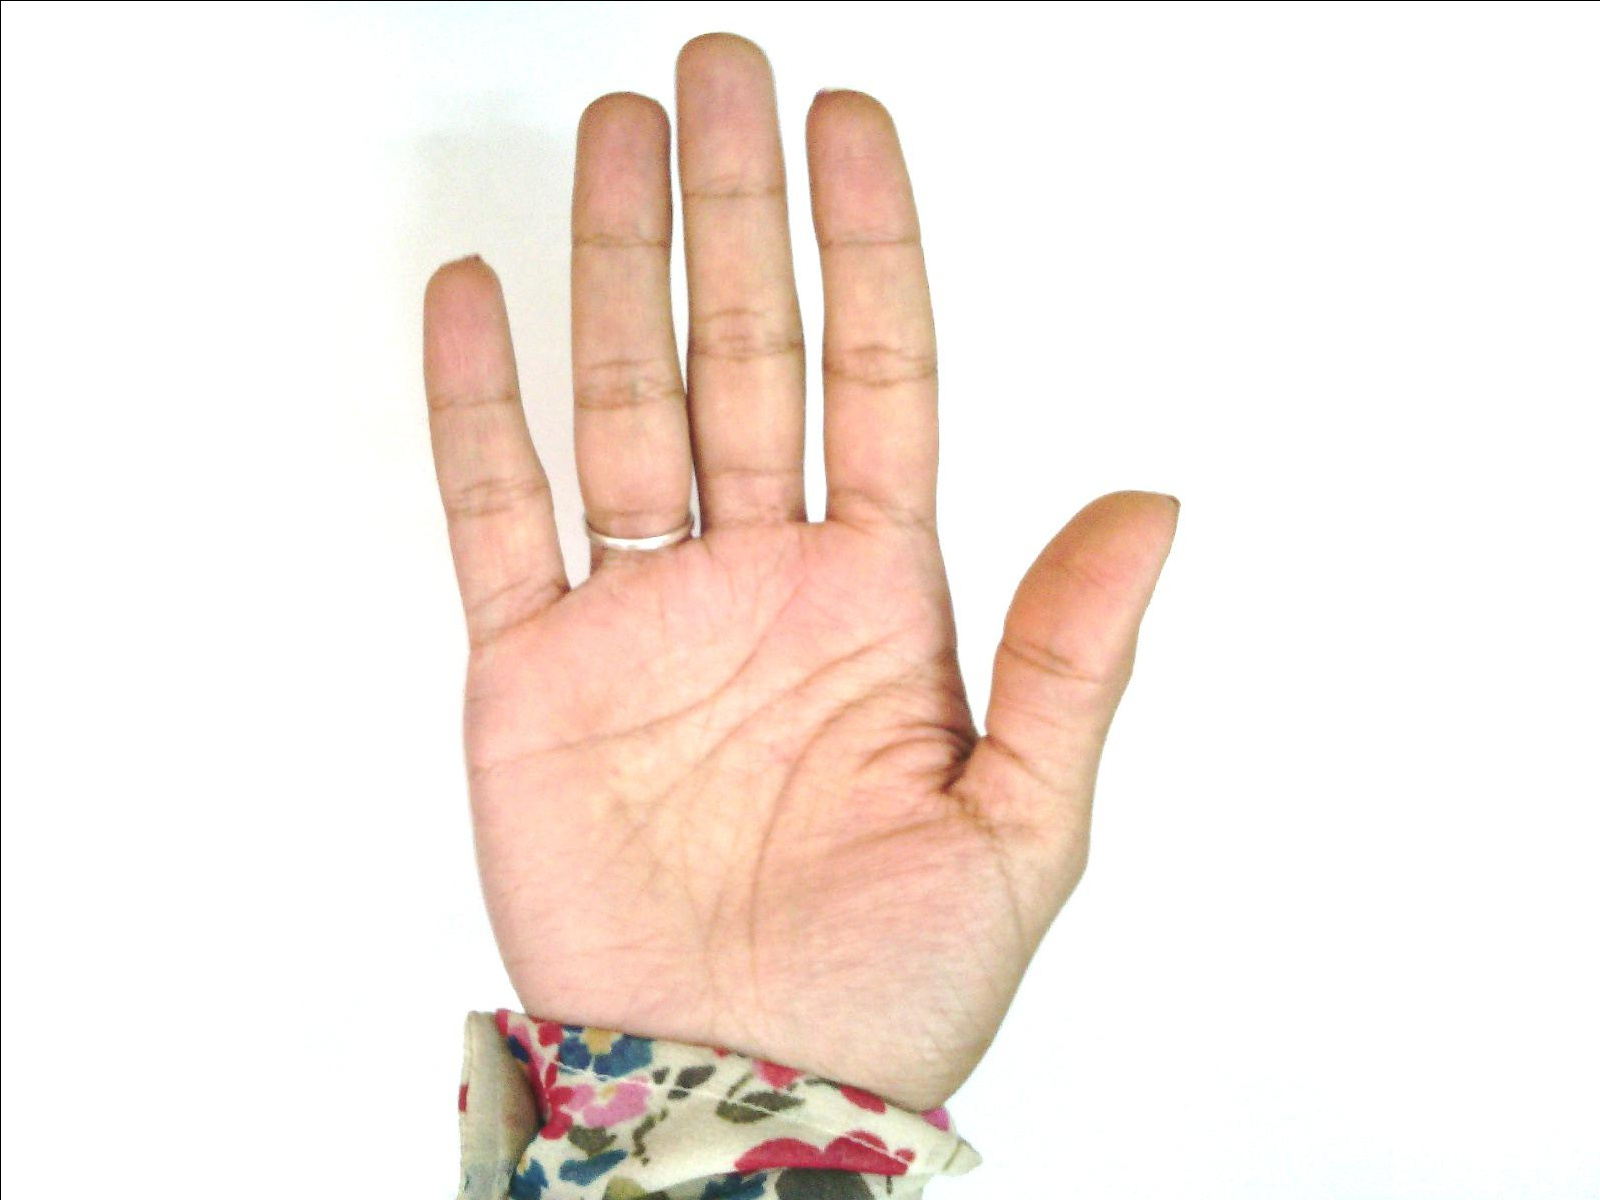5-hand: (421, 38, 1175, 1094)
